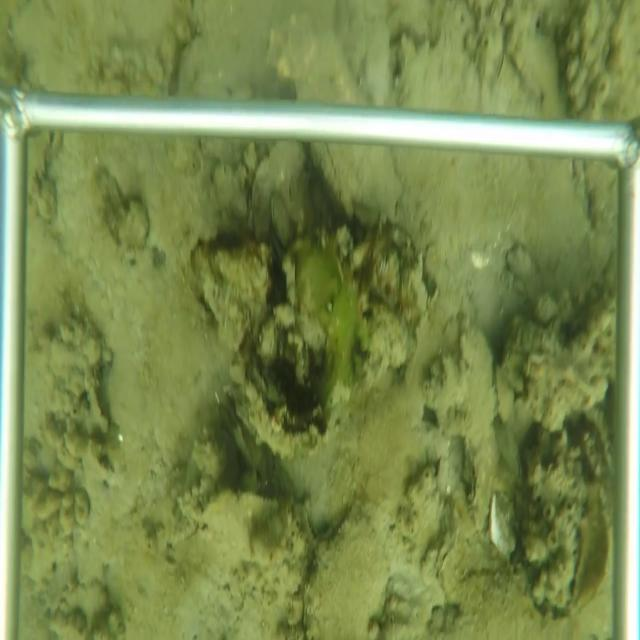Oyster-Closed: (303, 496, 391, 639), (457, 311, 498, 536), (307, 141, 406, 228), (246, 141, 311, 243)
Oyster-Indeterminate: (178, 480, 318, 602), (570, 478, 611, 623)
Oyster-Open: (229, 359, 336, 464), (212, 375, 275, 490)
